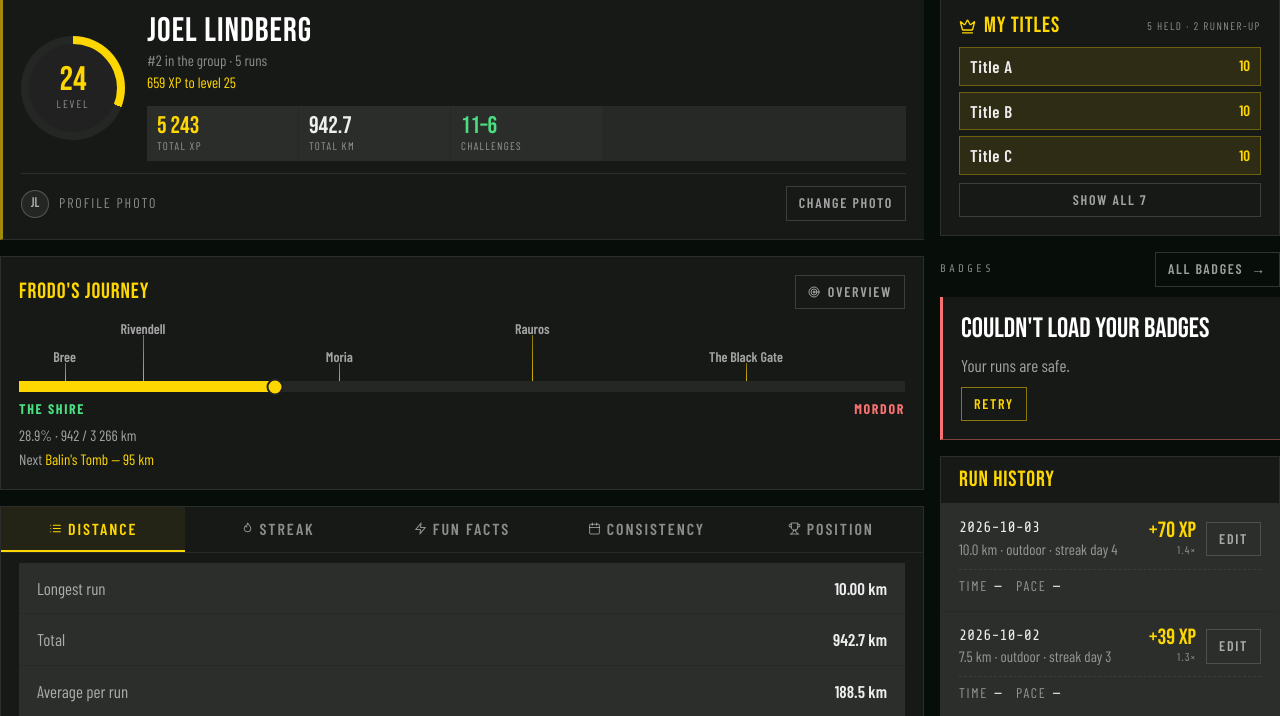
Test case: Profile — statflikar (?view=) › flikbyte skriver ?view= med replace
Expected: the tab "Distance" is shown, [1,506,185,552]
Step 1. Click the tab "Fun facts" → (462, 529), box [370,506,554,552]
(page scrolled)
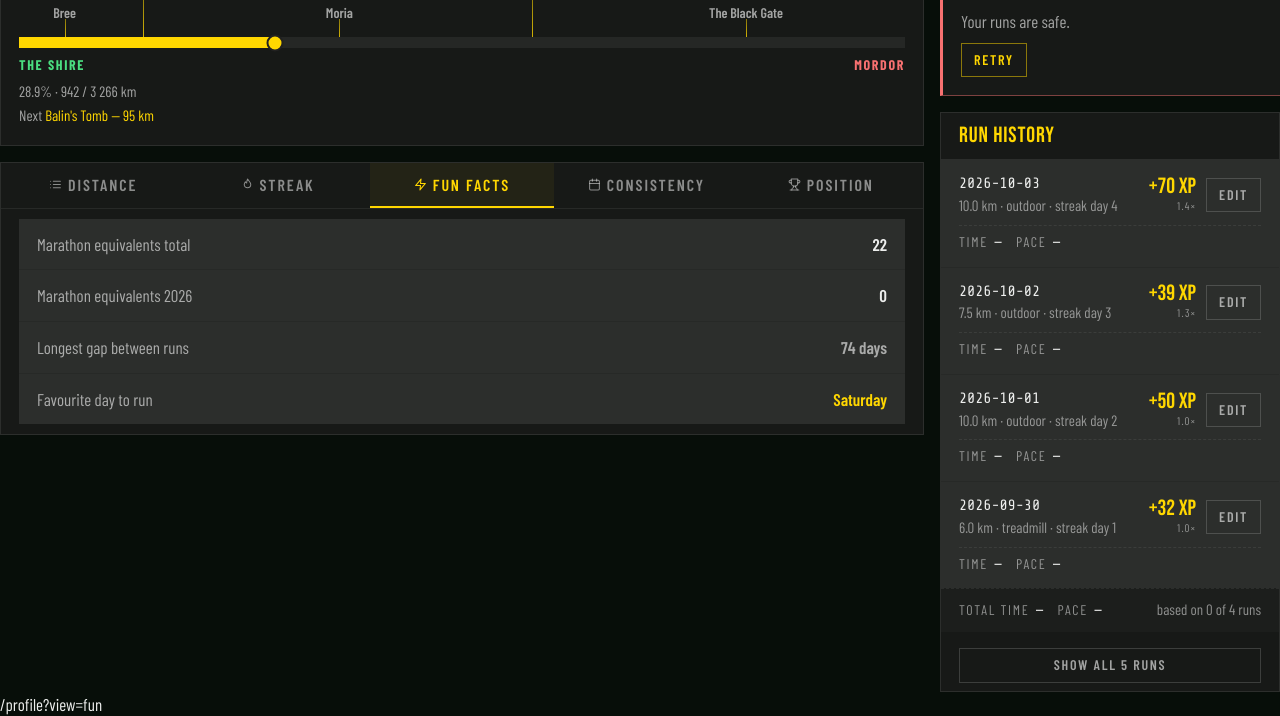
Now the text with test id "location" reads "/profile?view=fun", box [0,694,102,714]
Now the text "Longest gap between runs" is shown, box [37,335,189,360]
Now the text "Favourite day to run" is shown, box [37,387,153,411]
